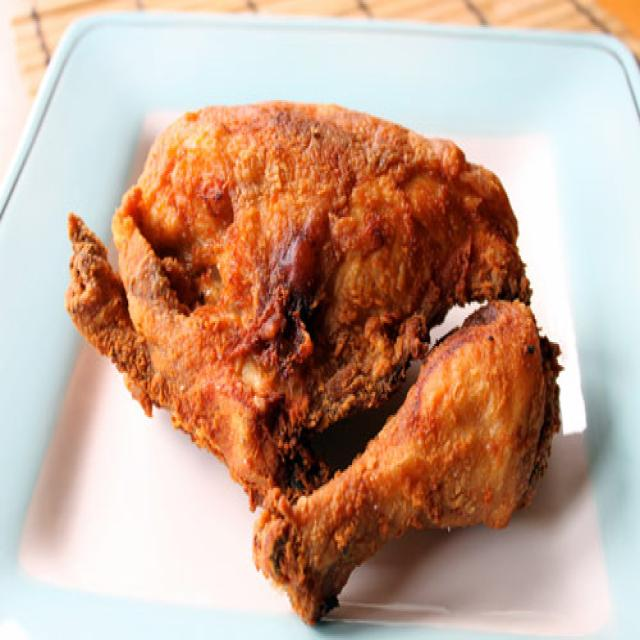Frango: (67, 96, 566, 634)
